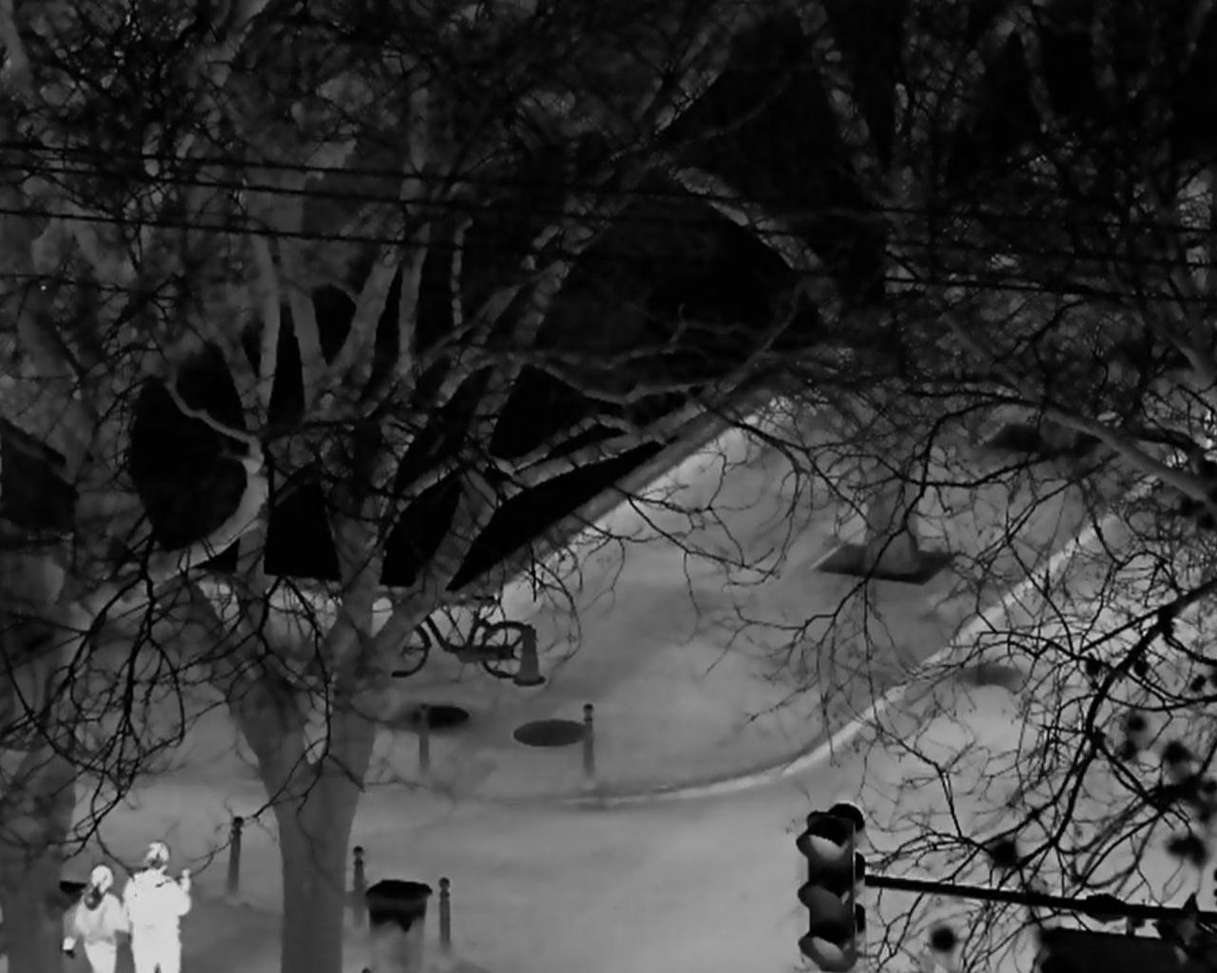person: (124, 841, 190, 973), (61, 863, 126, 973)
